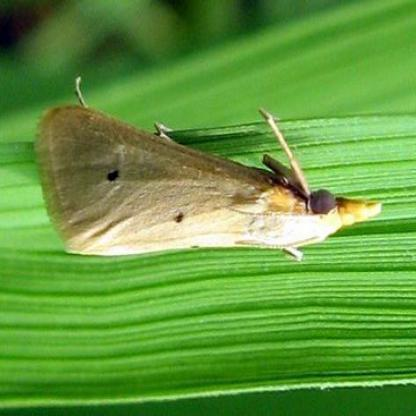stem-borer: (31, 75, 384, 265)
